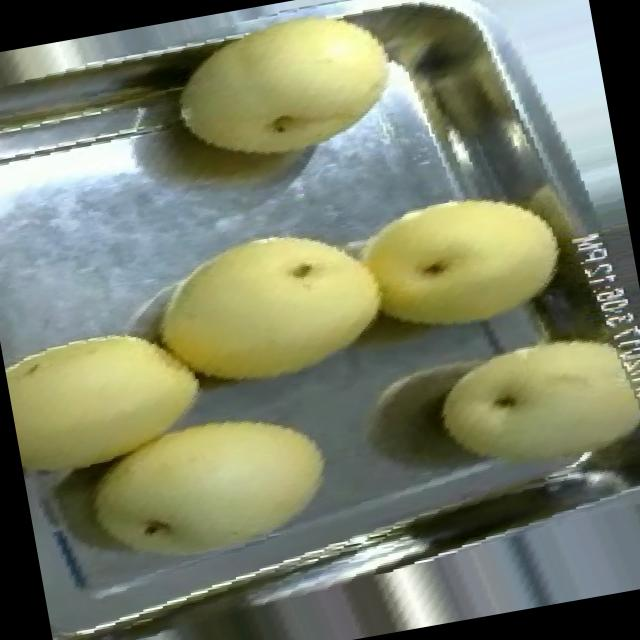Fruit: (54, 371, 362, 609), (123, 198, 411, 426), (326, 151, 598, 376), (150, 0, 428, 206), (401, 296, 640, 517), (0, 294, 235, 511)
